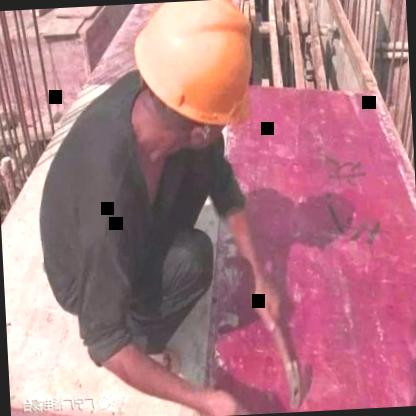helmet: (115, 0, 271, 170)
